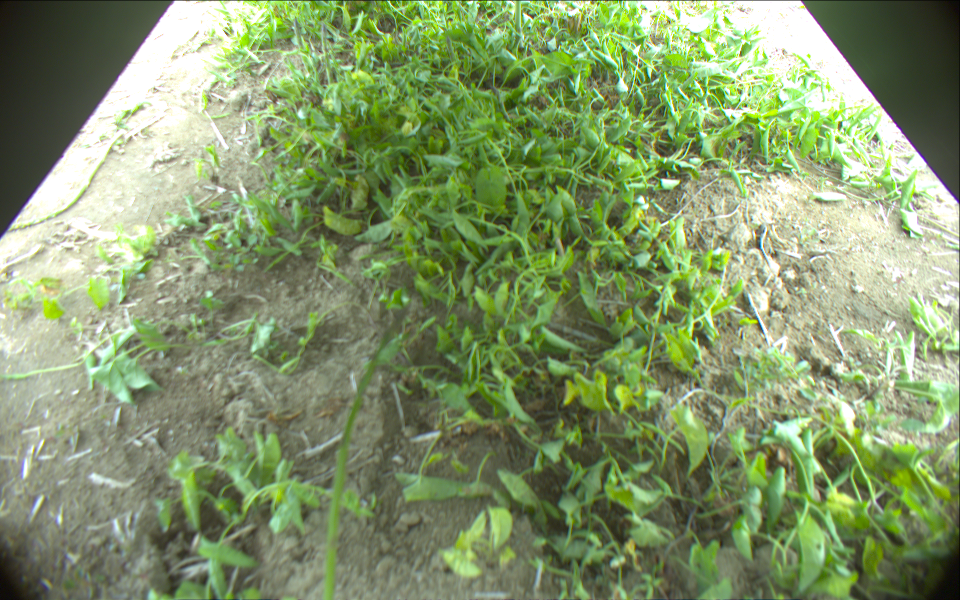aspa: (320, 298, 412, 600), (5, 126, 126, 234), (319, 22, 336, 72), (291, 17, 307, 61), (513, 1, 525, 43), (447, 37, 460, 66)
